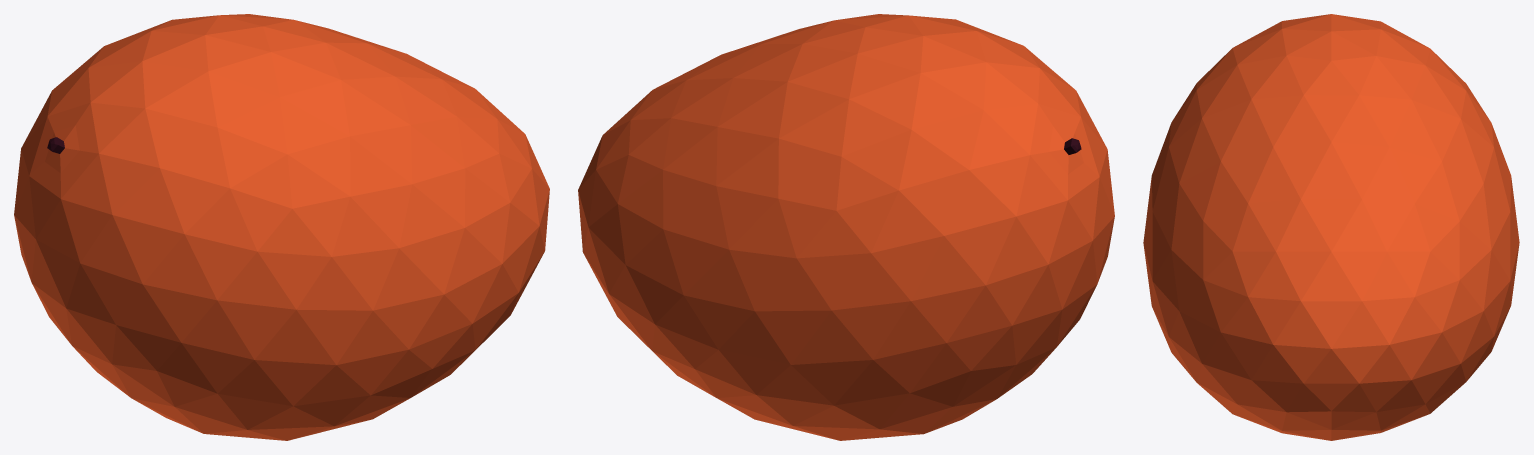
Rendered from SM_Mango_001.fbx.
3 renders of one model, left to right at view 1: azimuth 30°, elevation 25°; view 2: azimuth 150°, elevation 25°; view 3: azimuth 270°, elevation 25°, orthographic. The views are drawn at different scales.
Parts seen in each view (by area): view 1: Mango; view 2: Mango; view 3: Mango.
Part boxes in pixels (<box>): Mango: <box>14,14,549,440</box>; Mango: <box>578,14,1114,440</box>; Mango: <box>1143,14,1519,440</box>.
Size of the model in its own units: 26.64 by 20.57 by 20.
